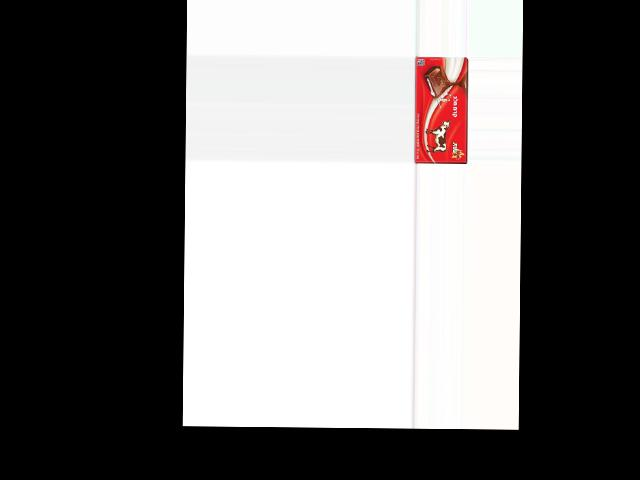chocolate: (413, 57, 468, 165)
